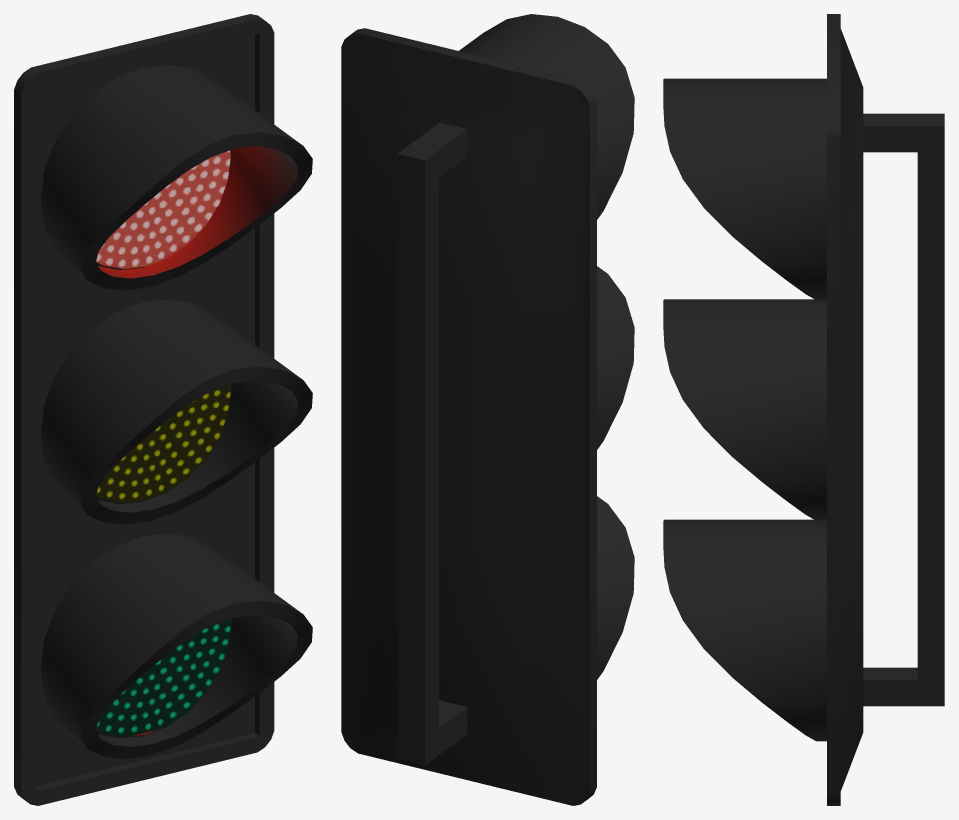
The model's file is sm_trli_001_01.FBX.
3 renders of one model, left to right at view 1: azimuth 30°, elevation 25°; view 2: azimuth 150°, elevation 25°; view 3: azimuth 270°, elevation 25°, orthographic. The views are drawn at different scales.
Parts seen in each view (by area): view 1: sm_trli_001_01; view 2: sm_trli_001_01; view 3: sm_trli_001_01.
Boxes of the visible parts, x1,y1,x2,y2 form: sm_trli_001_01: (14,14,312,805); sm_trli_001_01: (341,14,634,805); sm_trli_001_01: (663,14,944,805).
Size of the model in its own units: 0.4809 by 1.33 by 0.4919.
Materials: 1 (1 with a texture image).
